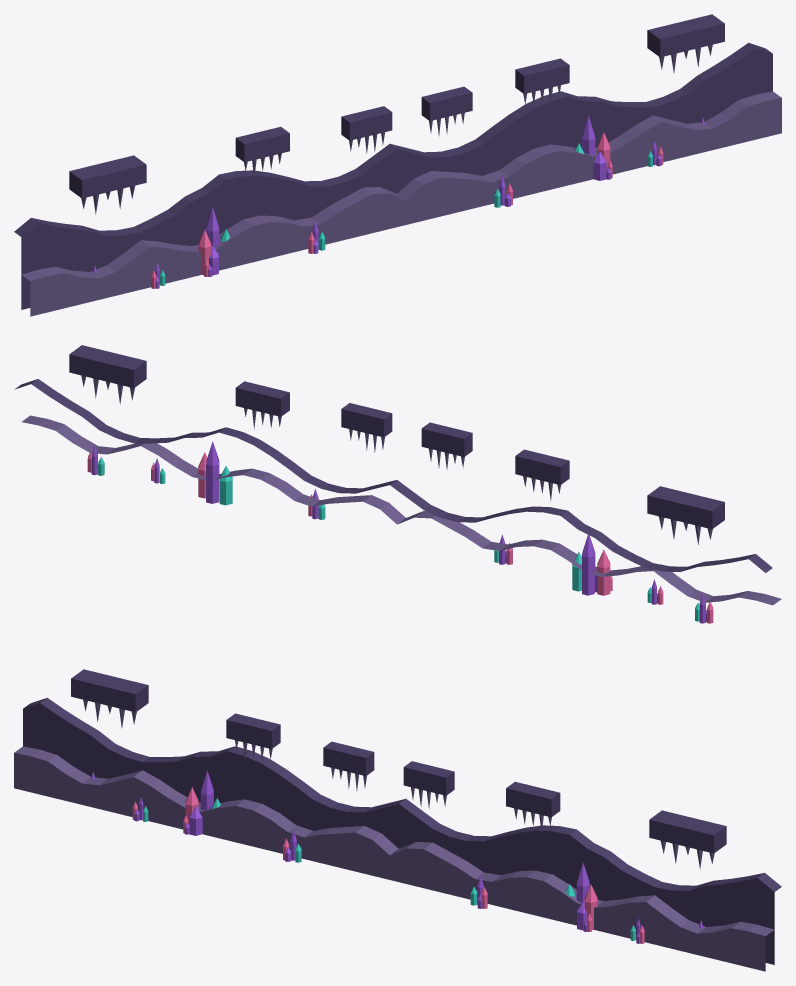
File: backdrop_crystal.glb
3 views of the same model, one above another, from view 1: azimuth 30°, elevation 25°; view 2: azimuth 150°, elevation 25°; view 3: azimuth 330°, elevation 25° (orthographic).
Parts seen in each view (by area): view 1: backdrop_crystal; view 2: backdrop_crystal; view 3: backdrop_crystal.
Boxes of the visible parts, x1,y1,x2,y2 form: backdrop_crystal: (14, 14, 781, 316); backdrop_crystal: (14, 345, 781, 623); backdrop_crystal: (14, 669, 781, 971).
Bounding box in the file's own units: 260 × 40 × 14.
1 material, 1 textured.
